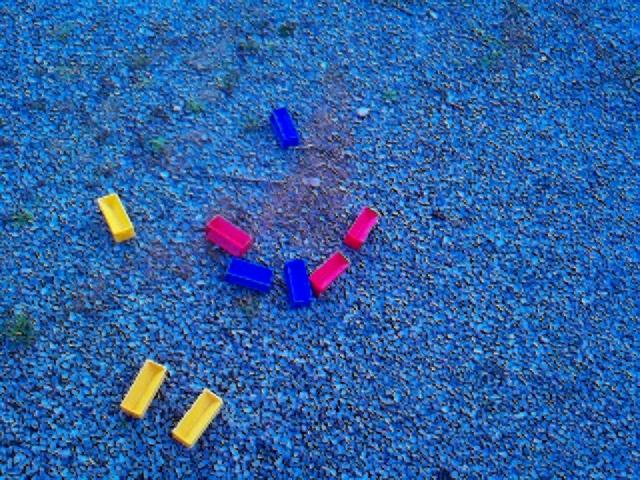blue: (225, 257, 275, 294), (283, 258, 314, 308), (269, 107, 301, 149)
red: (205, 215, 253, 258), (309, 252, 350, 295), (343, 207, 379, 250)
yellow: (171, 388, 224, 448), (120, 359, 167, 419), (97, 192, 136, 243)
